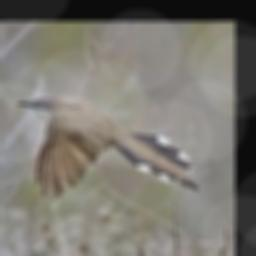Cuckoo: (16, 94, 198, 198)
